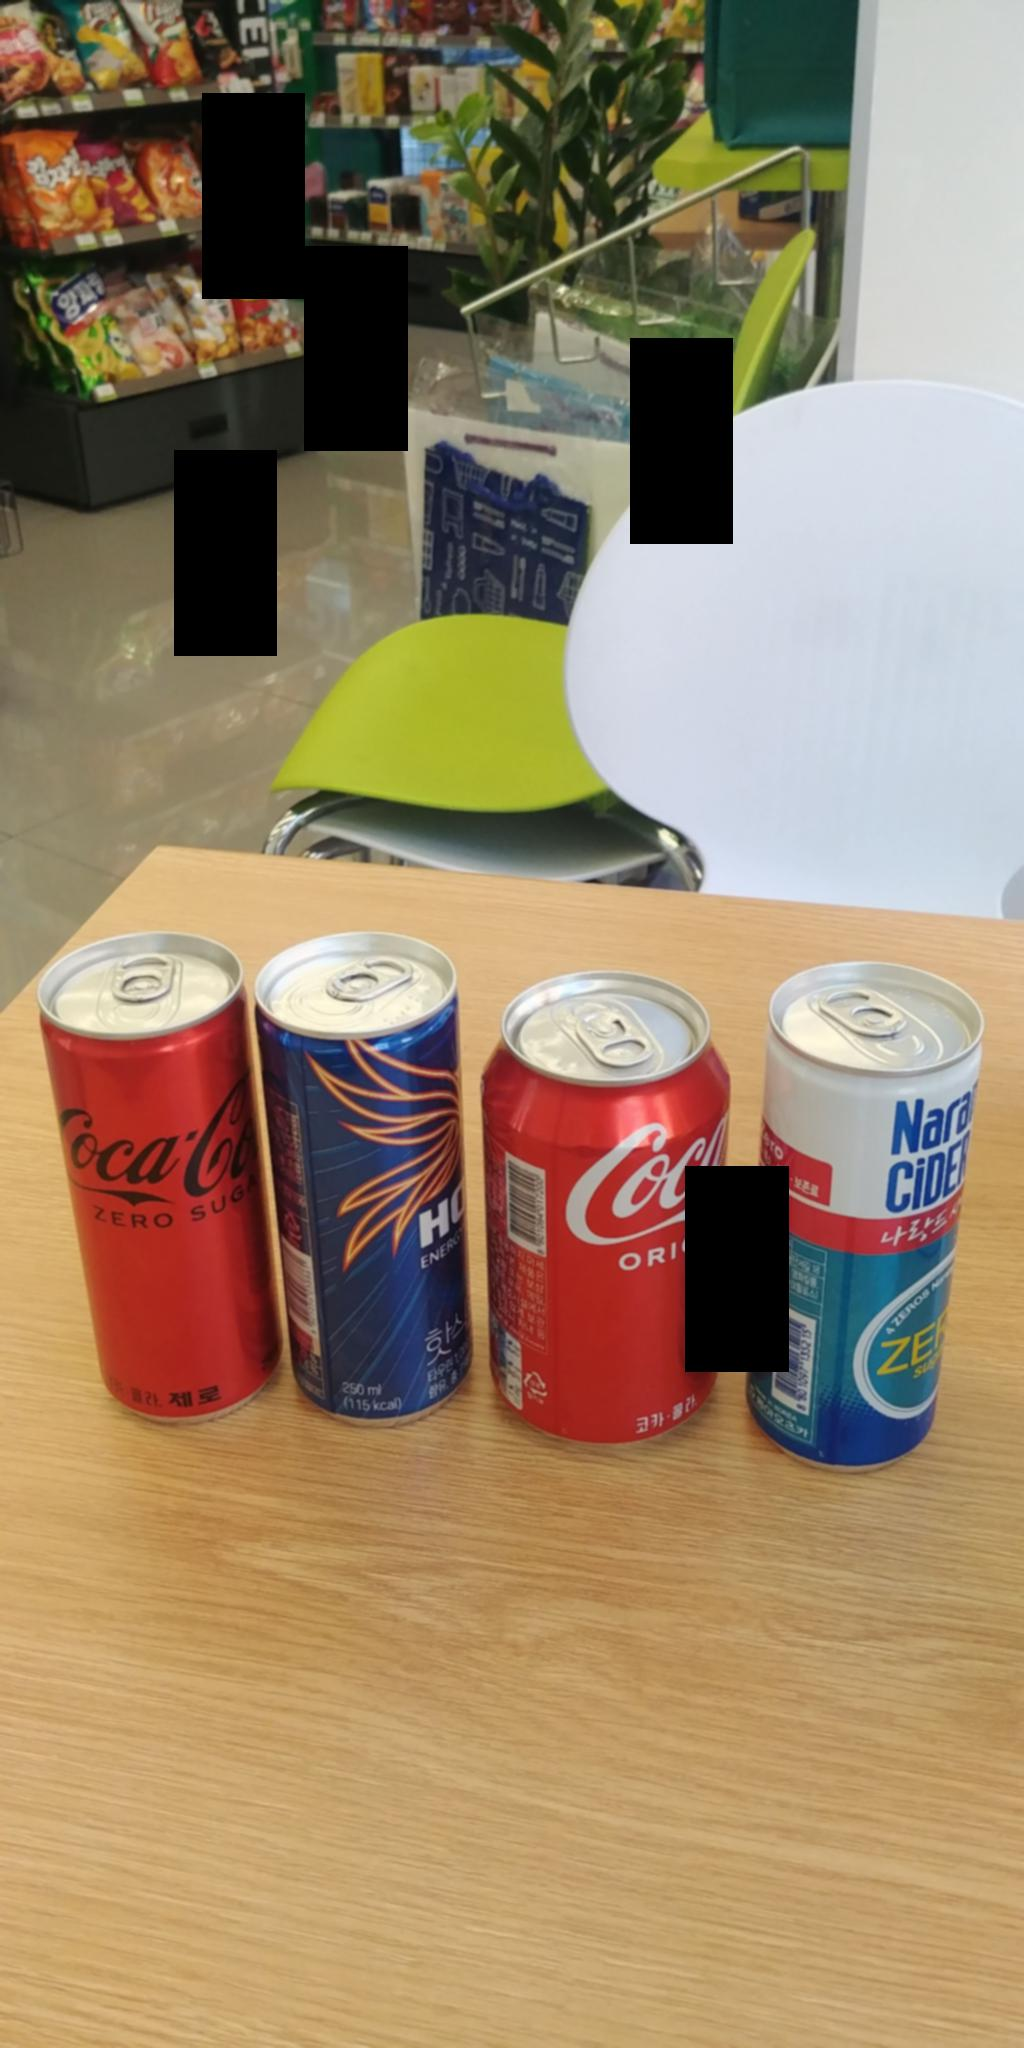cocacola: (494, 974, 726, 1455)
hotsix_org: (282, 930, 465, 1420)
narangdcider: (764, 955, 980, 1469)
